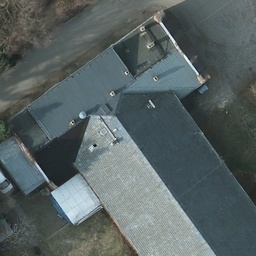car: (0, 161, 15, 195)
